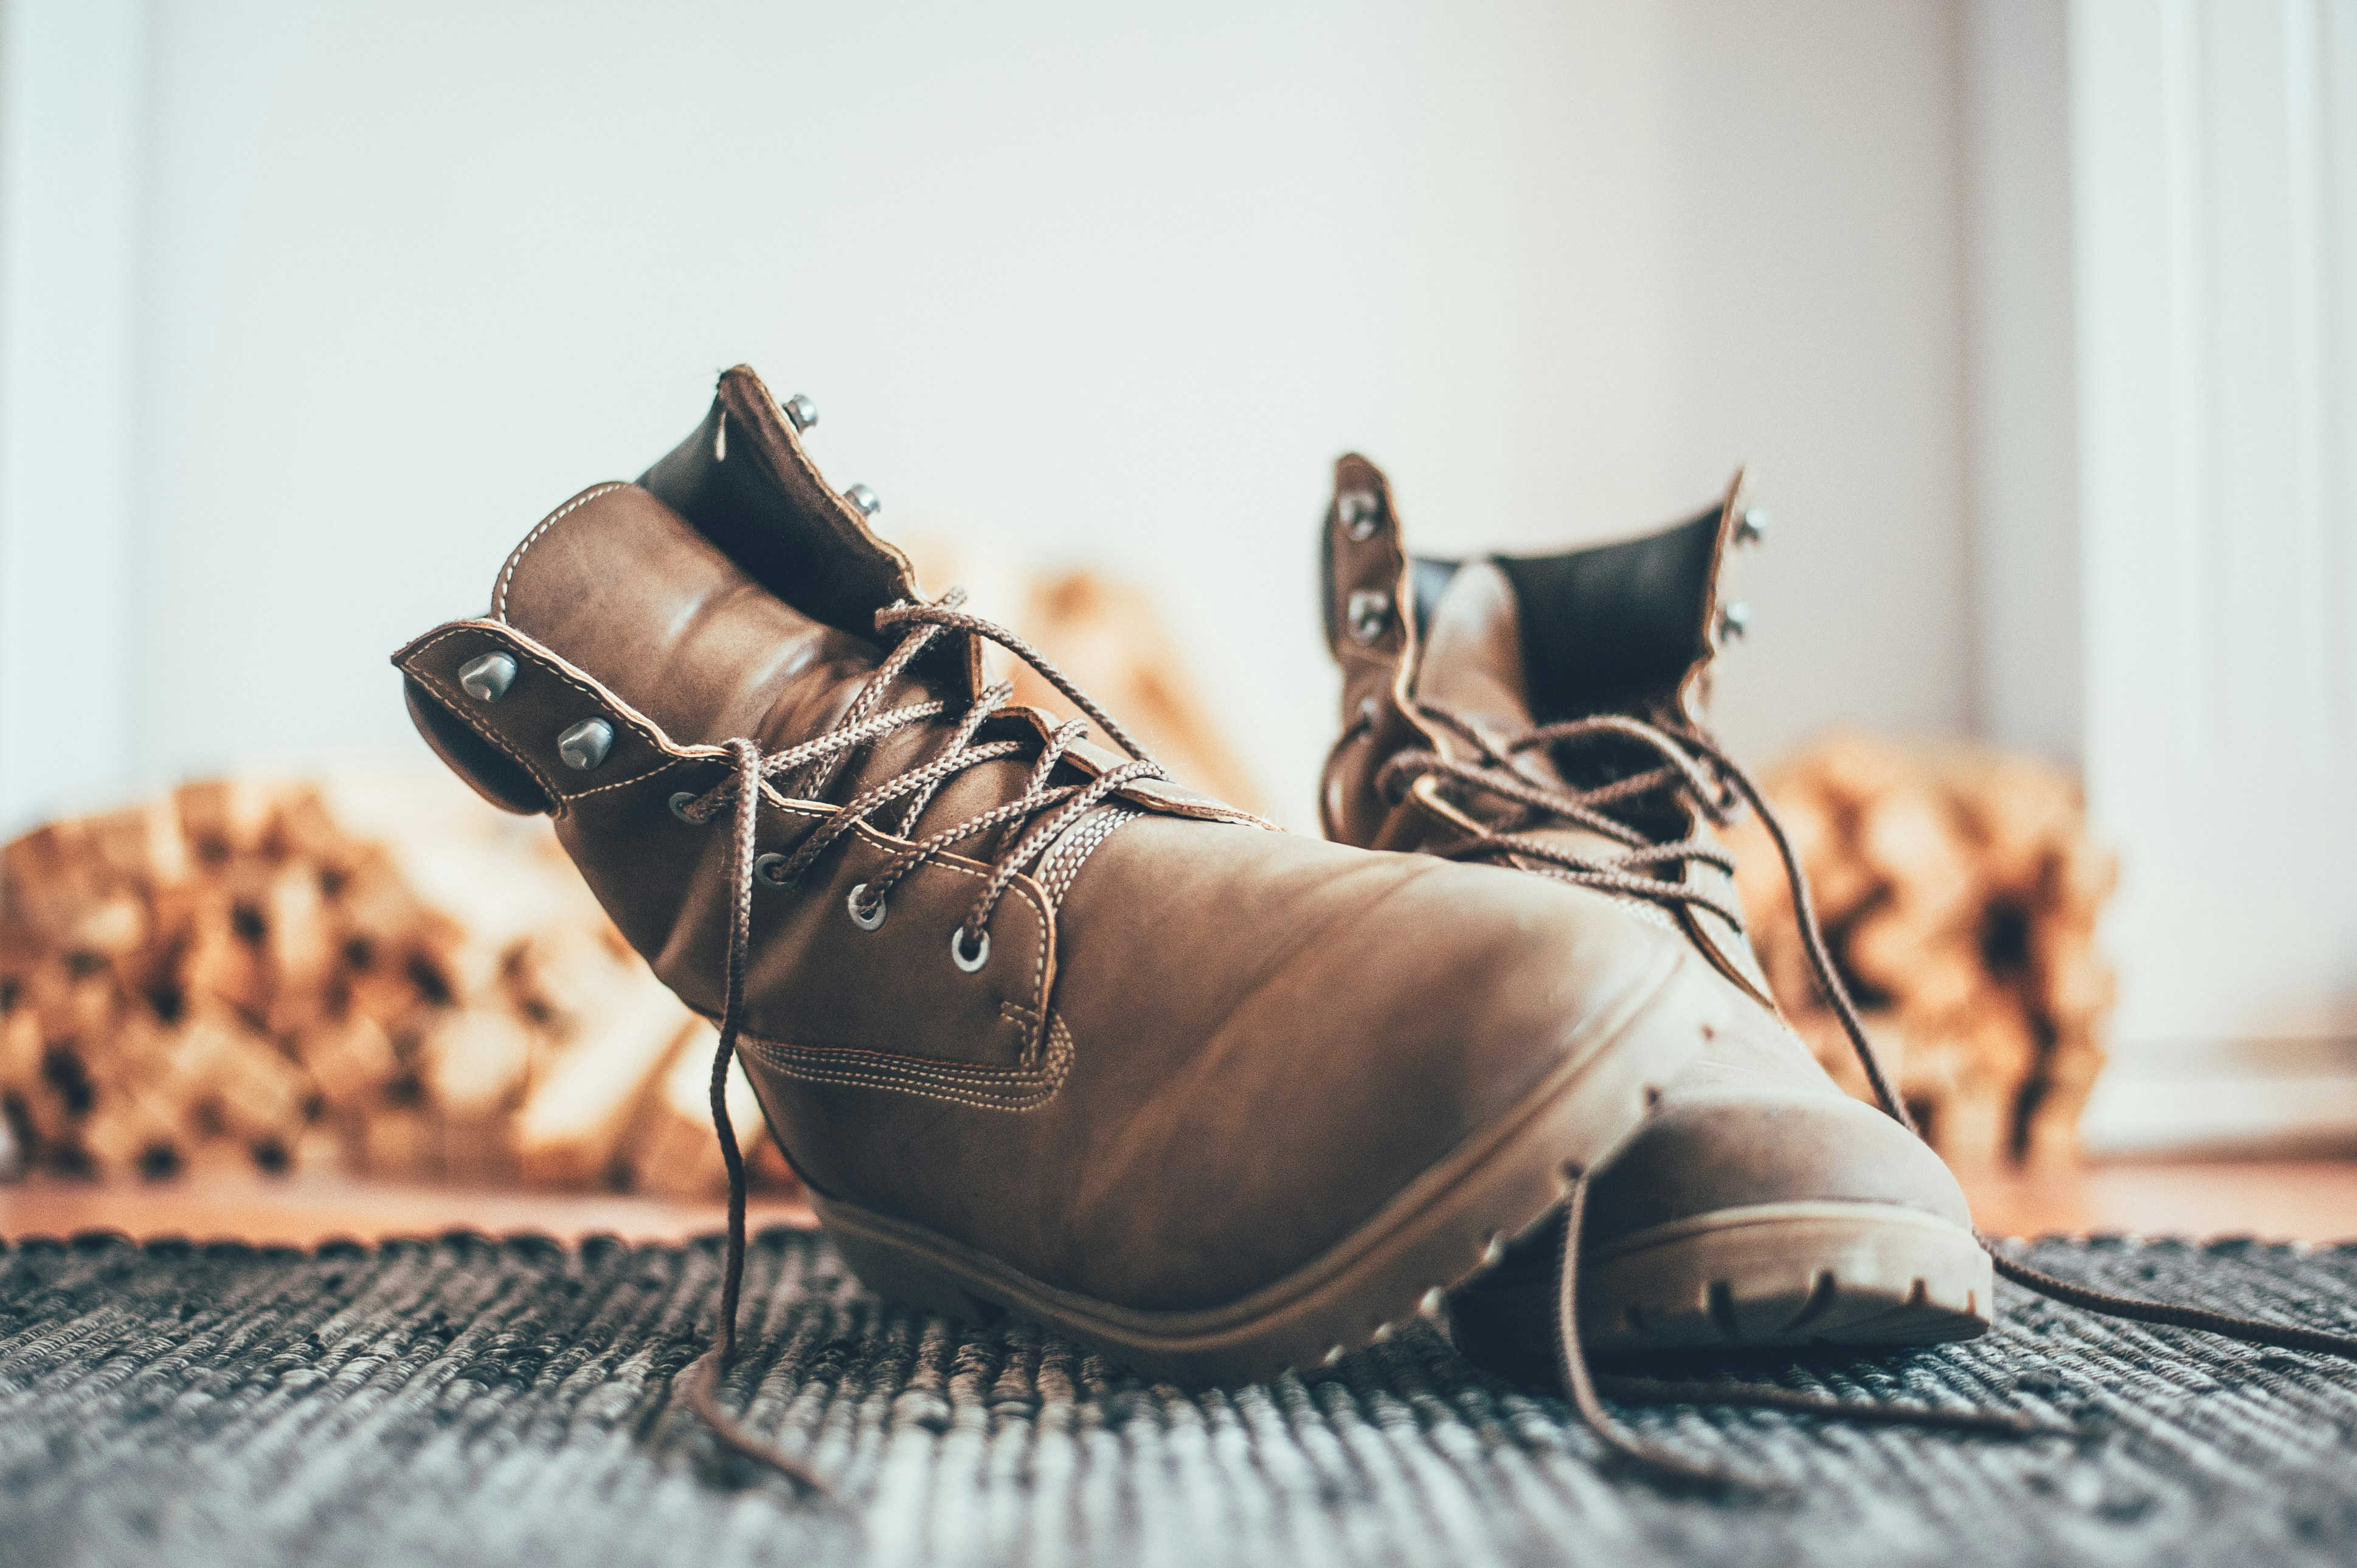Footwear: (336, 329, 1801, 1314), (1228, 422, 2158, 1426)
